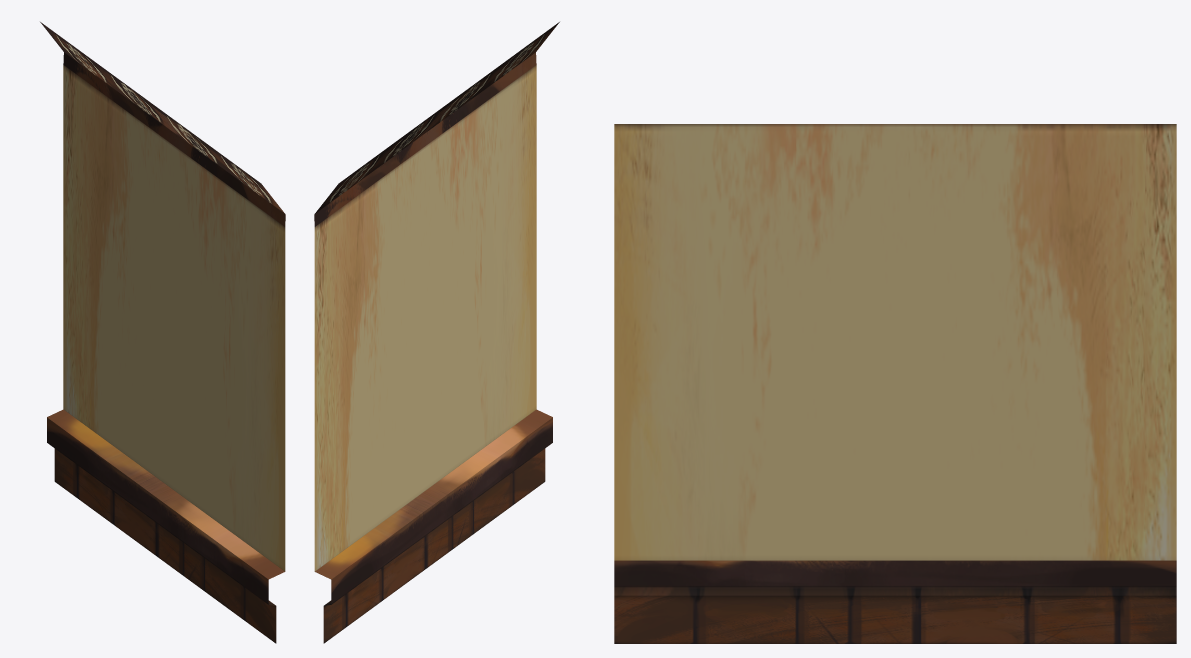
Rendered from стіно тупо...fbx.
The picture shows the model from 3 angles, left to right: view 1: azimuth 30°, elevation 25°; view 2: azimuth 150°, elevation 25°; view 3: azimuth 270°, elevation 25°; orthographic projection. The views are drawn at different scales.
Parts seen in each view (by area): view 1: трім.011; view 2: трім.011; view 3: трім.011.
Boxes of the visible parts, x1,y1,x2,y2 form: трім.011: (40, 22, 285, 643); трім.011: (314, 22, 559, 643); трім.011: (614, 124, 1176, 643).
Size of the model in its own units: 30.17 by 277 by 233.
